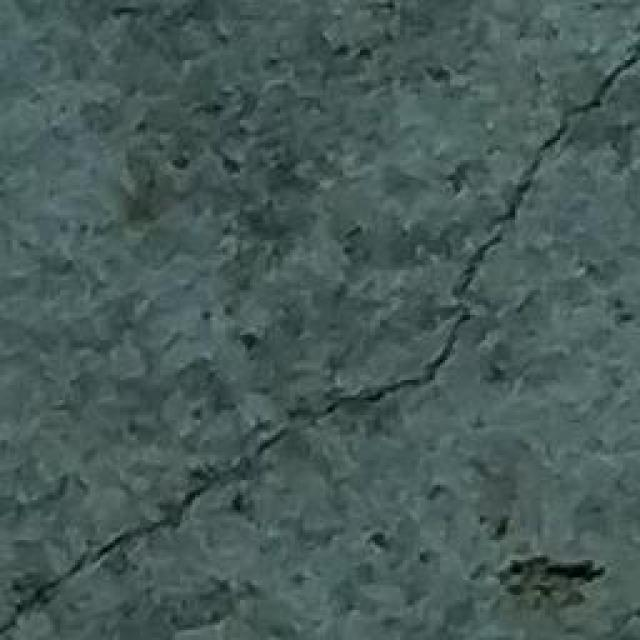Diagonal: (5, 40, 640, 638)
